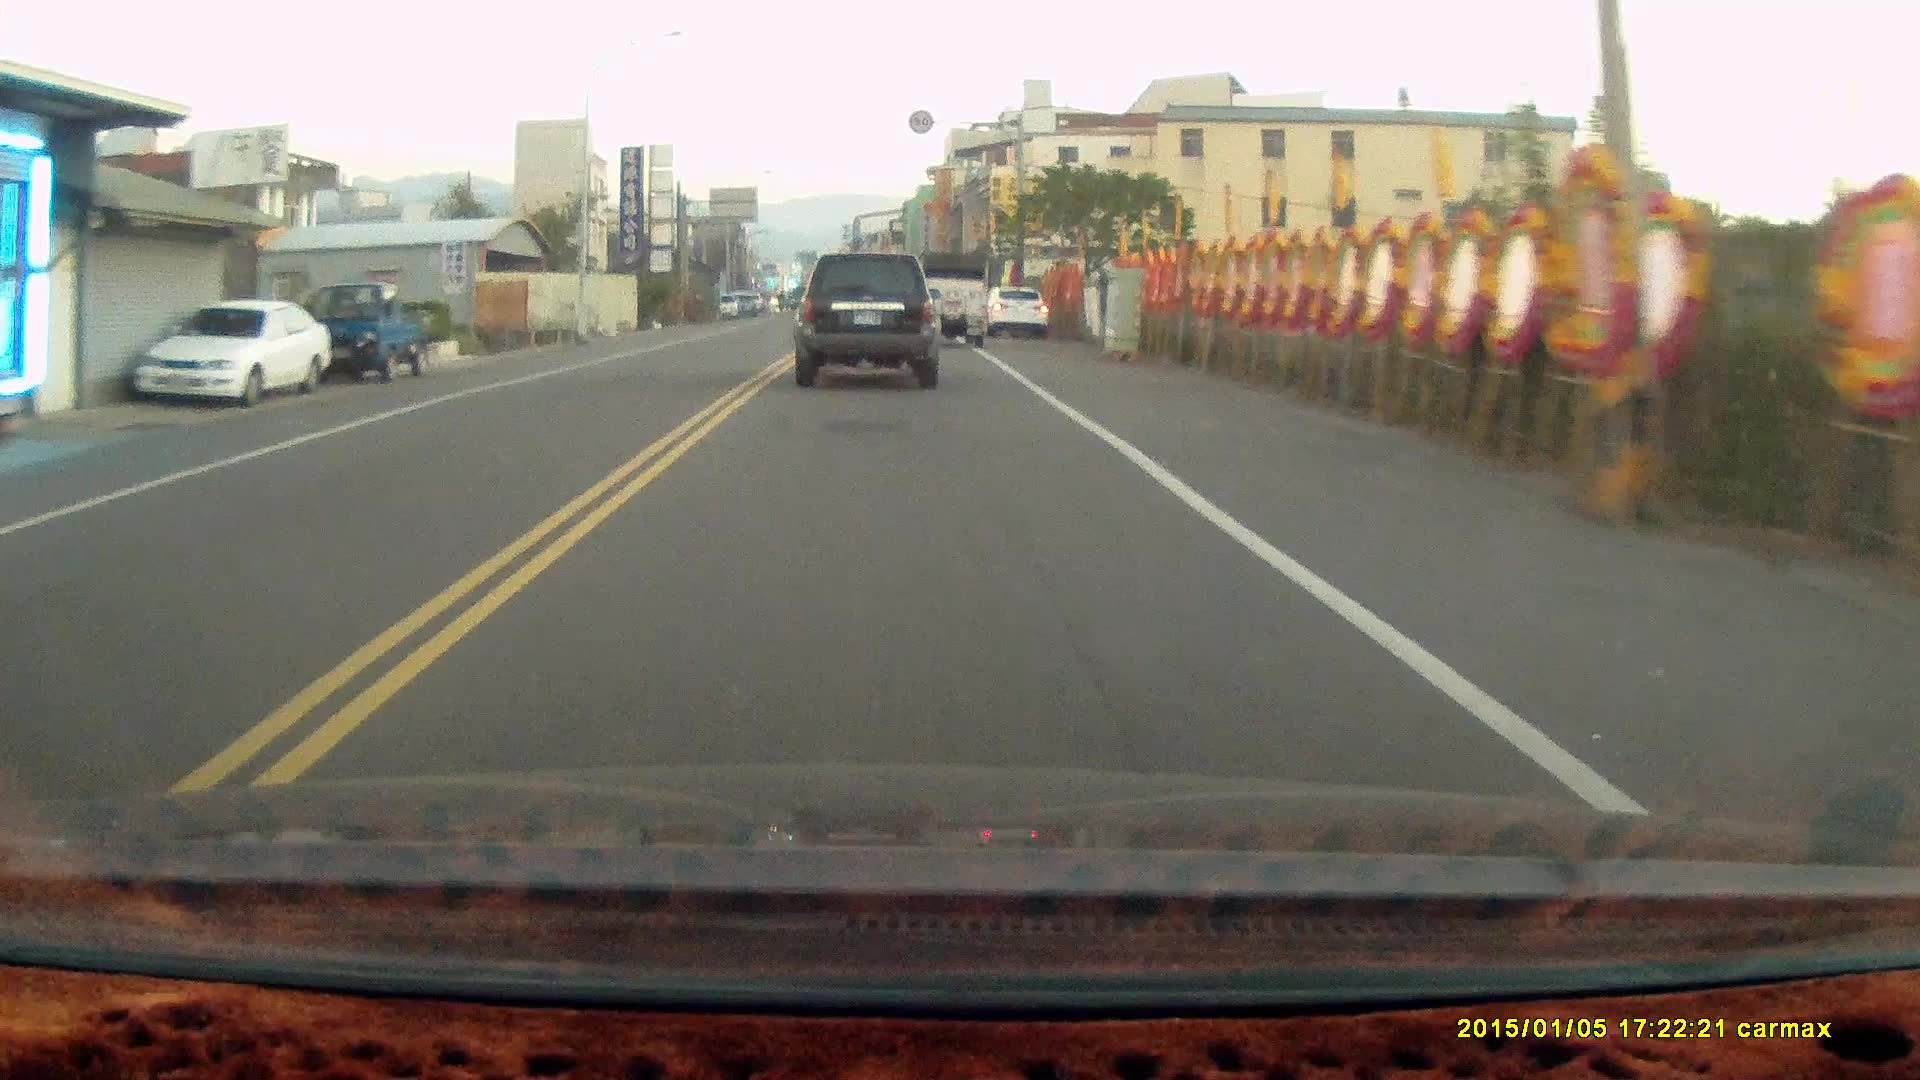vehicle: (129, 299, 328, 407), (796, 255, 945, 394), (299, 287, 444, 390), (915, 255, 993, 352), (988, 287, 1051, 344)
